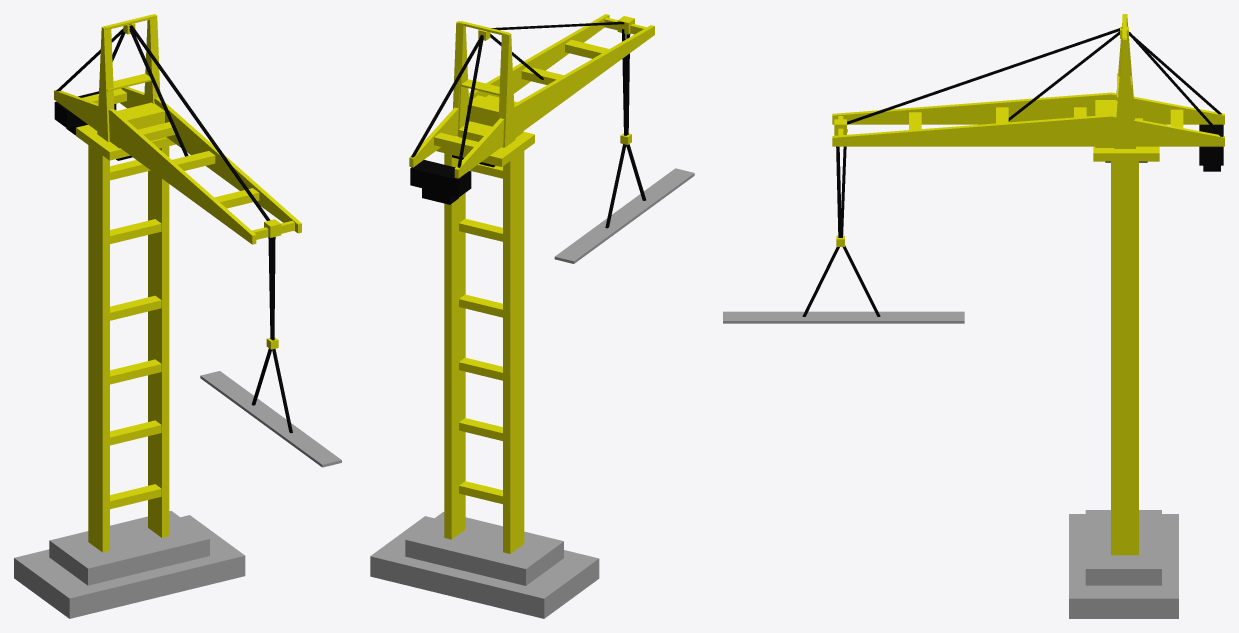
File: CRANE.fbx
3 renders of one model, left to right at view 1: azimuth 30°, elevation 25°; view 2: azimuth 150°, elevation 25°; view 3: azimuth 270°, elevation 25°, orthographic.
Visible parts, largest first — view 1: pCube106; view 2: pCube106; view 3: pCube106.
Boxes of the visible parts, x1=… form: pCube106: x1=14, y1=14, x2=341, y2=618; pCube106: x1=370, y1=14, x2=694, y2=618; pCube106: x1=723, y1=14, x2=1224, y2=618.
Size of the model in its own units: 8.99 by 27.17 by 22.46.
